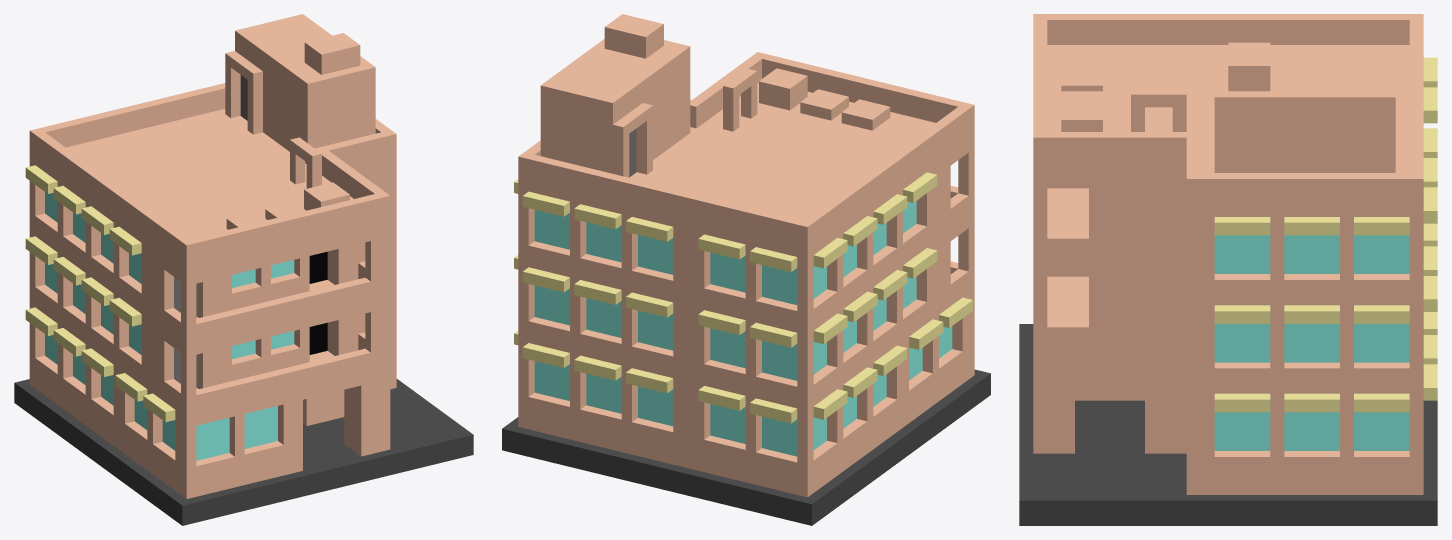
Rendered from apartments1.obj.
3 views of the same model, side by side, from view 1: azimuth 30°, elevation 25°; view 2: azimuth 150°, elevation 25°; view 3: azimuth 270°, elevation 25° (orthographic). The views are drawn at different scales.
Bounding box in the file's own units: 30 × 35 × 30.
